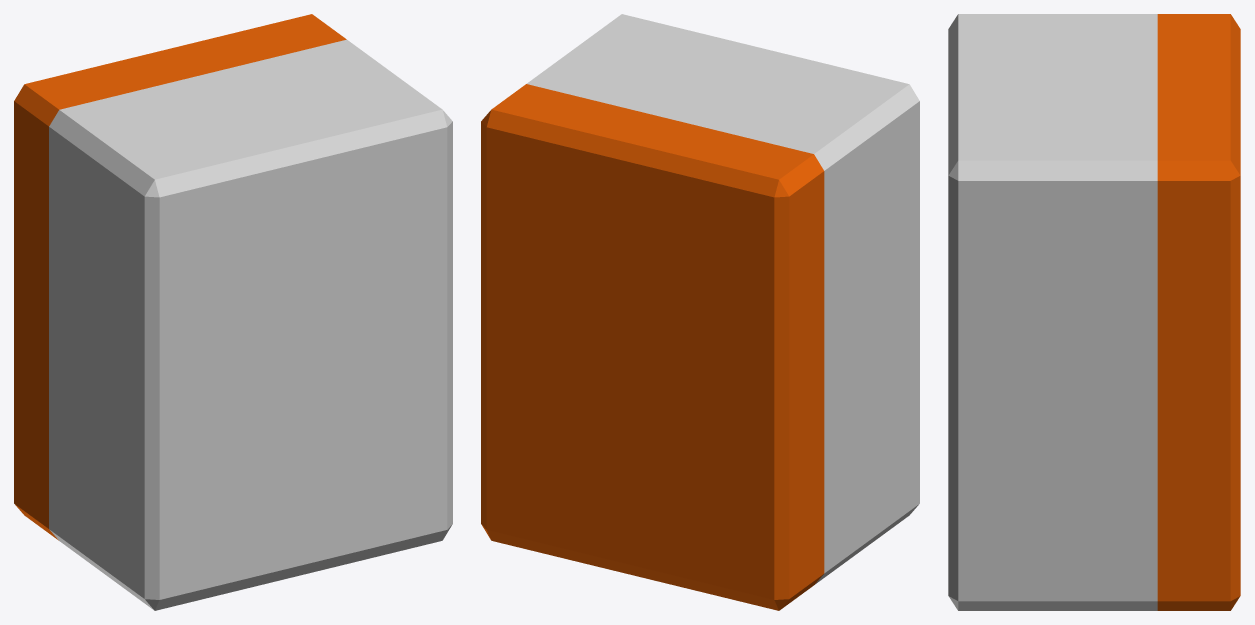
Rendered from Haku.gltf.
3 views of the same model, side by side, from view 1: azimuth 30°, elevation 25°; view 2: azimuth 150°, elevation 25°; view 3: azimuth 270°, elevation 25° (orthographic). The views are drawn at different scales.
Parts seen in each view (by area): view 1: Cube; view 2: Cube; view 3: Cube.
Boxes of the visible parts, left/top/right/bottom form: Cube: left=14, top=14, right=452, bottom=610; Cube: left=481, top=14, right=919, bottom=610; Cube: left=948, top=14, right=1240, bottom=610.
Bounding box in the file's own units: 1.95 × 2.6 × 1.53.
